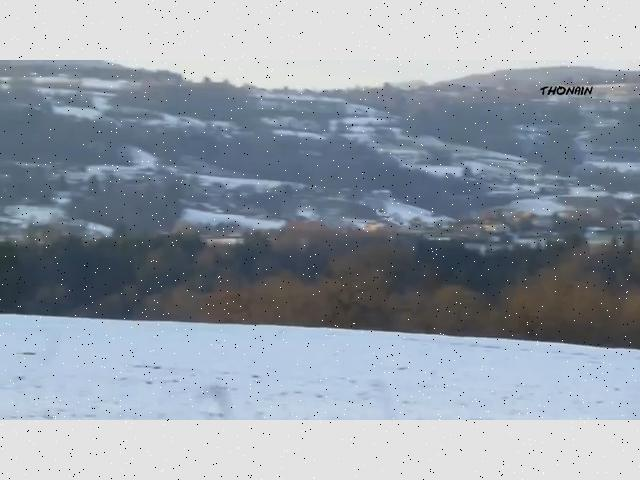Anti-Drone: (377, 208, 405, 227)
